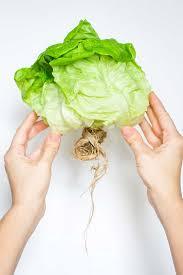lettuce: (19, 17, 150, 130)
